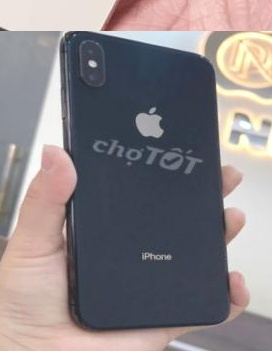scratch: (96, 79, 108, 91), (79, 38, 88, 45), (94, 42, 102, 48)
